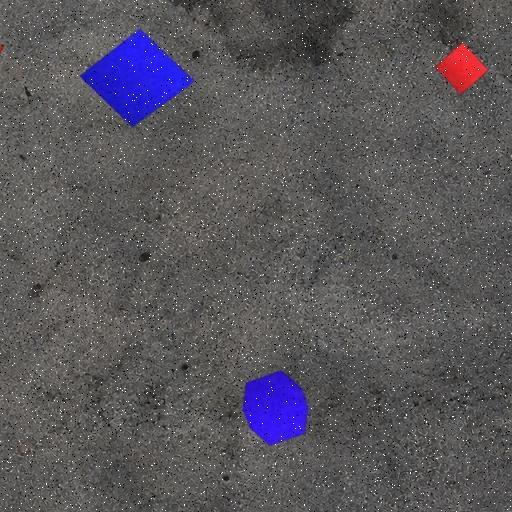BLUE_SQUARE: (79, 28, 195, 128)
RED_SQUARE: (434, 42, 488, 95)
